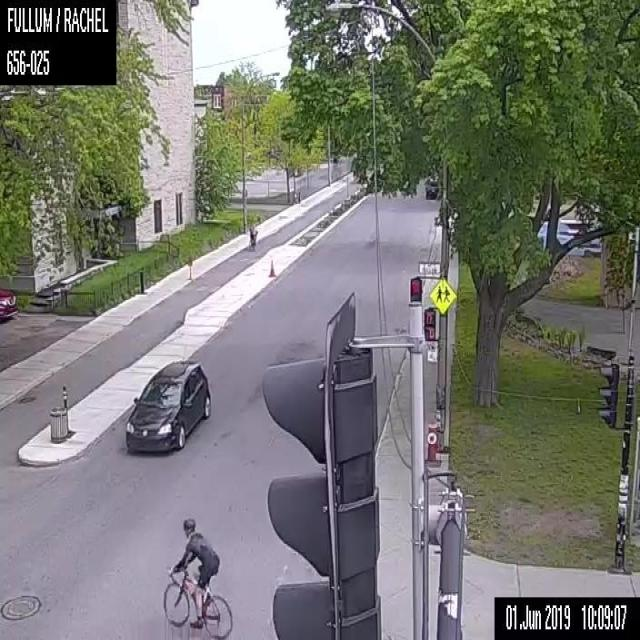construction: (267, 258, 275, 276)
cyclist: (162, 517, 233, 639), (248, 222, 257, 249)
vehicle: (124, 360, 210, 452), (0, 289, 16, 317), (424, 178, 439, 198)
